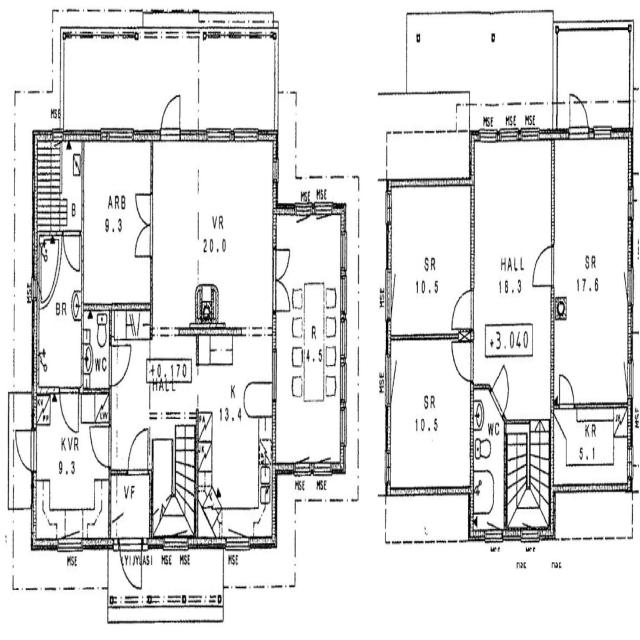door: (450, 286, 474, 379), (118, 536, 145, 594), (132, 188, 153, 260), (530, 239, 556, 290), (126, 422, 151, 475), (158, 89, 183, 140), (448, 283, 475, 330), (88, 419, 113, 468), (489, 363, 511, 417), (13, 426, 37, 475), (567, 88, 590, 138), (449, 336, 474, 382), (109, 339, 133, 386), (58, 386, 81, 434), (556, 366, 577, 413), (62, 228, 83, 274), (272, 242, 292, 284), (272, 274, 292, 312)
window: (232, 122, 260, 148), (204, 123, 233, 147), (383, 347, 394, 409), (224, 531, 251, 556), (56, 533, 84, 555), (338, 305, 349, 361), (270, 346, 280, 406), (106, 125, 134, 146), (338, 266, 349, 319), (383, 262, 393, 320), (624, 355, 636, 402), (625, 260, 636, 309), (483, 524, 505, 547), (338, 401, 348, 450), (498, 124, 520, 146), (383, 186, 394, 229), (338, 227, 348, 274), (592, 122, 614, 143), (625, 434, 635, 480), (382, 444, 392, 488), (626, 184, 635, 219)
zone: (552, 134, 631, 407), (472, 135, 553, 378), (179, 137, 275, 328), (197, 345, 274, 542), (386, 336, 472, 494), (386, 183, 474, 337), (80, 140, 153, 306), (32, 398, 109, 543), (33, 230, 83, 388), (550, 401, 630, 488), (295, 276, 340, 408), (33, 134, 83, 232), (472, 390, 506, 533), (283, 210, 343, 284), (148, 350, 196, 420), (108, 469, 152, 539), (82, 304, 110, 390), (506, 419, 529, 486)
